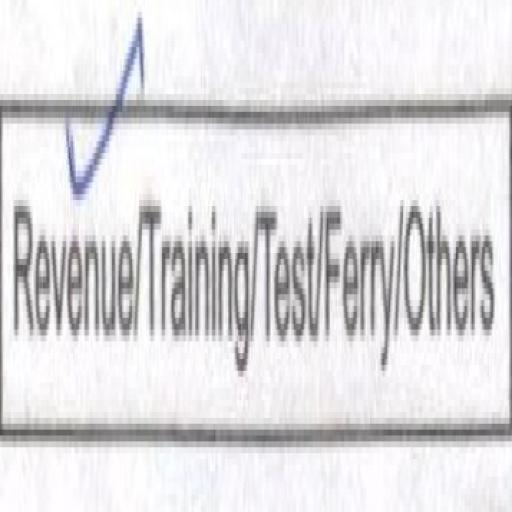check: (3, 0, 138, 441)
